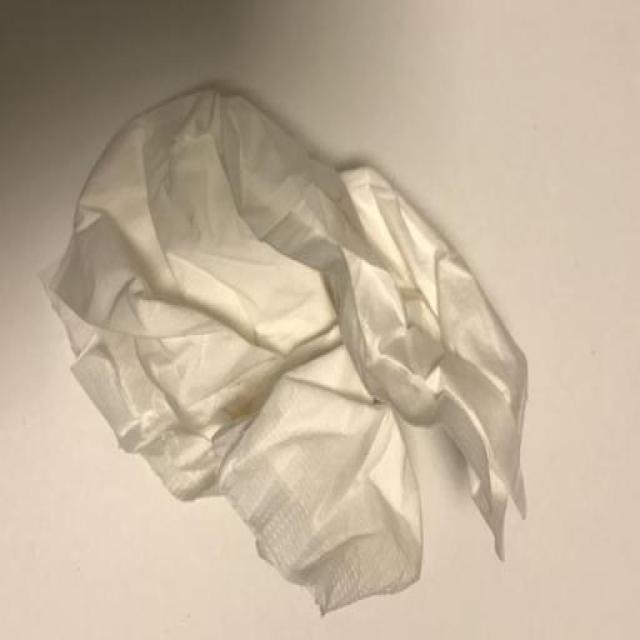Random Trash: (38, 85, 530, 617)
